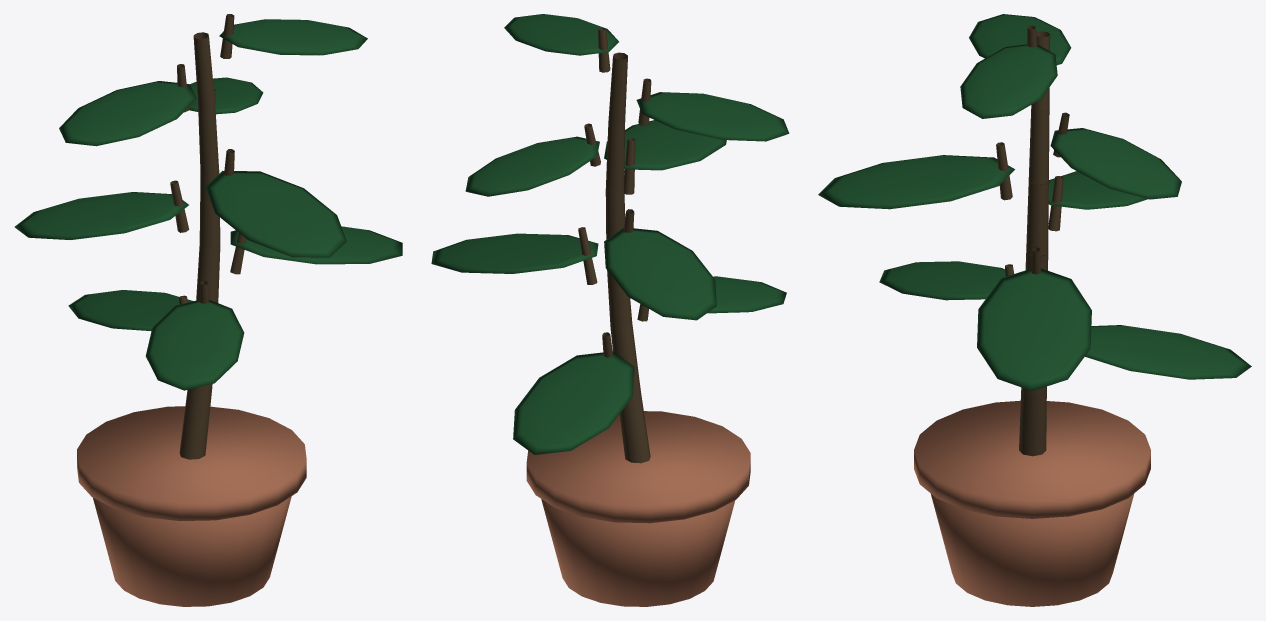
File: SM_PottedRubberPlant_Realistic.obj
3 views of the same model, side by side, from view 1: azimuth 30°, elevation 25°; view 2: azimuth 150°, elevation 25°; view 3: azimuth 270°, elevation 25° (orthographic). The views are drawn at different scales.
Visible parts, largest first — view 1: SM_PottedRubberPlant; view 2: SM_PottedRubberPlant; view 3: SM_PottedRubberPlant.
Part boxes in pixels (box(x1,y1,x2,y2)): SM_PottedRubberPlant: box(14, 14, 402, 606); SM_PottedRubberPlant: box(431, 14, 789, 606); SM_PottedRubberPlant: box(818, 14, 1251, 606).
Bounding box in the file's own units: 0.4837 × 0.724 × 0.5042.
